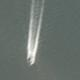ship: (19, 47, 40, 71)
